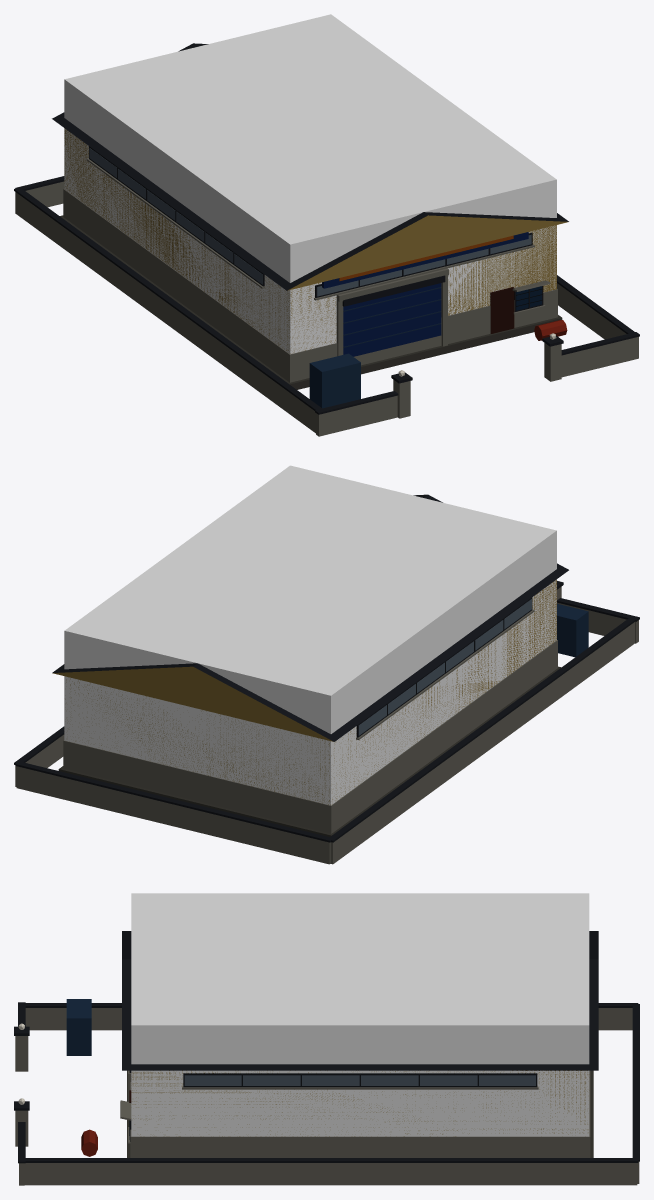
Rendered from B23_workshop.glb.
The picture shows the model from 3 angles, top to bottom: view 1: azimuth 30°, elevation 25°; view 2: azimuth 150°, elevation 25°; view 3: azimuth 270°, elevation 25°; orthographic projection.
Visible parts, largest first — view 1: COL_Main, LOD0; view 2: COL_Main, LOD0; view 3: COL_Main, LOD0.
Part boxes in pixels (x1=…): COL_Main: x1=64, y1=14, x2=556, y2=354; LOD0: x1=14, y1=43, x2=639, y2=436; COL_Main: x1=64, y1=465, x2=556, y2=805; LOD0: x1=14, y1=494, x2=639, y2=864; COL_Main: x1=131, y1=893, x2=589, y2=1136; LOD0: x1=14, y1=931, x2=639, y2=1185.
Size of what is drawn, in the model's own units: 18.08 by 7.8 by 30.06.
